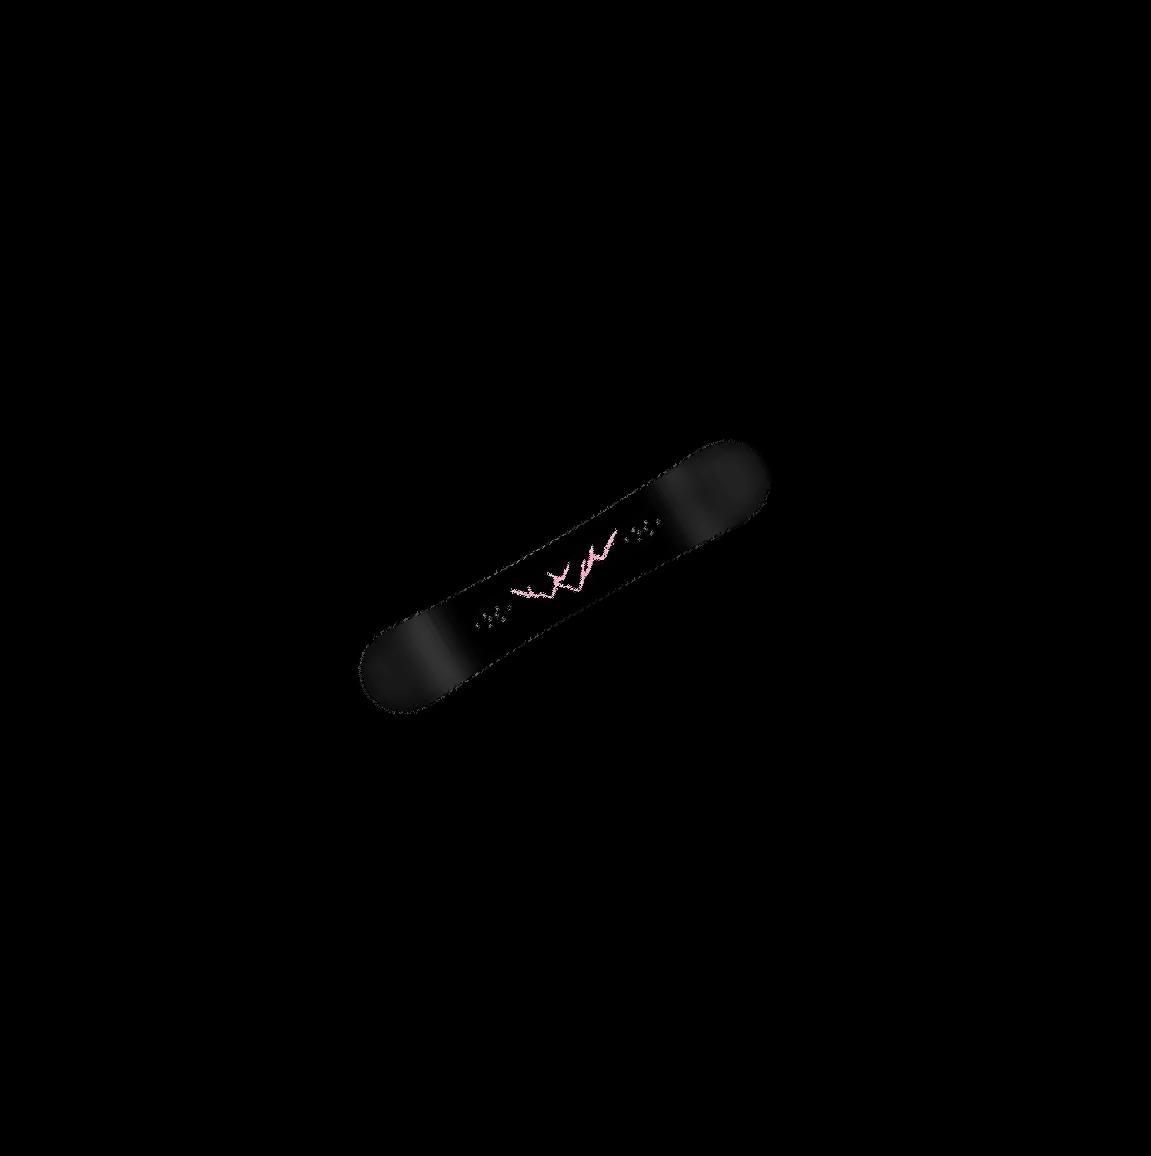Snowboard: (355, 435, 772, 717)
